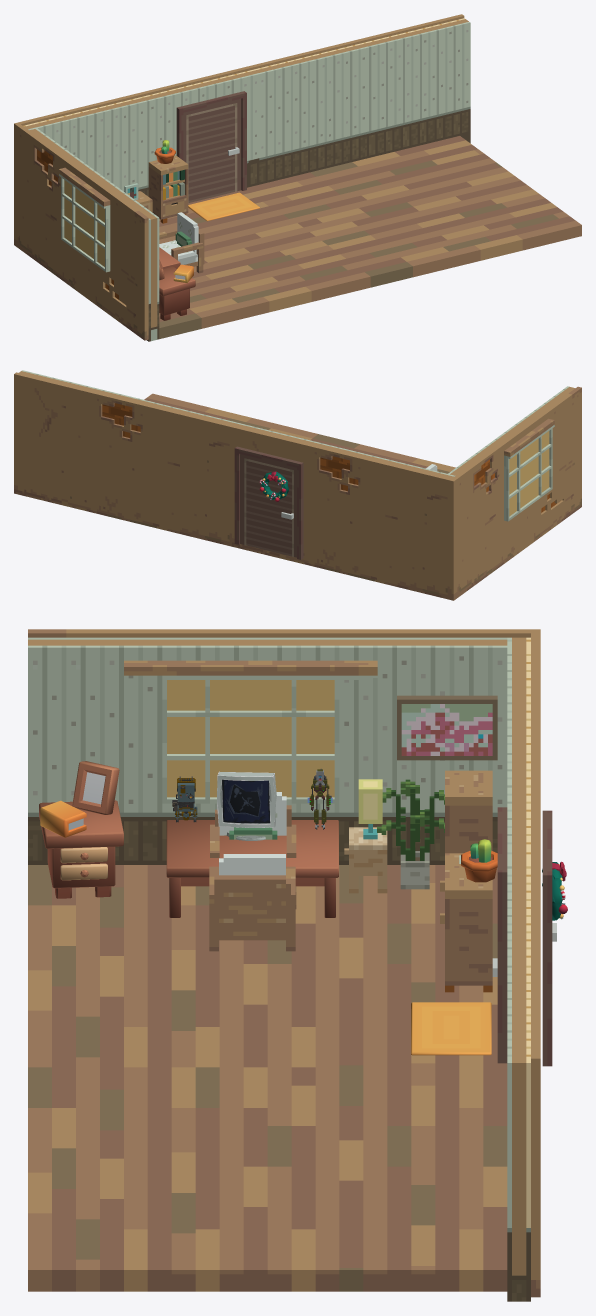
File: Room_Model_v02.glb
3 views of the same model, one above another, from view 1: azimuth 30°, elevation 25°; view 2: azimuth 150°, elevation 25°; view 3: azimuth 270°, elevation 25° (orthographic). The views are drawn at different scales.
Parts seen in each view (by area): view 1: Untitled.020, Untitled.021, Untitled.001, Untitled.003, Untitled.005, Untitled.015, Untitled.002, Untitled.016, Cupboard, Untitled.017, cabinet_small_decorated_Cube.048, Untitled.004 (+2 smaller); view 2: Untitled.022, Untitled.004, Untitled.003, Untitled.023, Untitled.002, Untitled.020, Untitled.016, Untitled.021, Untitled.005, Untitled.001, wreath; view 3: Untitled.020, Untitled.001, Untitled.016, Untitled.012, Untitled.021, cabinet_small_decorated_Cube.048, table_medium_long_Cube.004, Untitled.017, Untitled.011, Cupboard, Untitled.005, Untitled.022 (+13 smaller).
Part boxes in pixels (bbox=[...]): Untitled.020: bbox=[249, 136, 581, 287]; Untitled.021: bbox=[243, 18, 470, 186]; Untitled.001: bbox=[159, 187, 370, 338]; Untitled.003: bbox=[16, 124, 148, 340]; Untitled.005: bbox=[23, 72, 248, 196]; Untitled.015: bbox=[176, 91, 246, 202]; Untitled.002: bbox=[59, 167, 110, 272]; Untitled.016: bbox=[29, 128, 159, 341]; Cupboard: bbox=[148, 155, 188, 223]; Untitled.017: bbox=[159, 212, 204, 273]; cabinet_small_decorated_Cube.048: bbox=[159, 259, 195, 320]; Untitled.004: bbox=[14, 69, 242, 246]; Untitled.022: bbox=[14, 372, 237, 547]; Untitled.004: bbox=[232, 425, 456, 600]; Untitled.003: bbox=[452, 386, 581, 598]; Untitled.023: bbox=[234, 446, 303, 559]; Untitled.002: bbox=[504, 418, 554, 521]; Untitled.020: bbox=[144, 393, 359, 450]; Untitled.016: bbox=[448, 386, 575, 475]; Untitled.021: bbox=[19, 370, 239, 425]; Untitled.005: bbox=[237, 423, 455, 478]; Untitled.001: bbox=[351, 444, 455, 473]; wreath: bbox=[259, 471, 288, 501]; Untitled.020: bbox=[28, 1067, 507, 1291]; Untitled.001: bbox=[28, 865, 507, 1067]; Untitled.016: bbox=[28, 637, 507, 864]; Untitled.012: bbox=[124, 660, 377, 803]; Untitled.021: bbox=[507, 850, 530, 1301]; cabinet_small_decorated_Cube.048: bbox=[39, 761, 123, 898]; table_medium_long_Cube.004: bbox=[166, 820, 338, 917]; Untitled.017: bbox=[209, 854, 295, 951]; Untitled.011: bbox=[397, 695, 497, 760]; Cupboard: bbox=[445, 864, 492, 992]; Untitled.005: bbox=[507, 637, 530, 850]; Untitled.022: bbox=[531, 842, 540, 1297].
Size of the model in its own units: 4.3 by 1.12 by 2.25.
31 materials, 31 textured.
